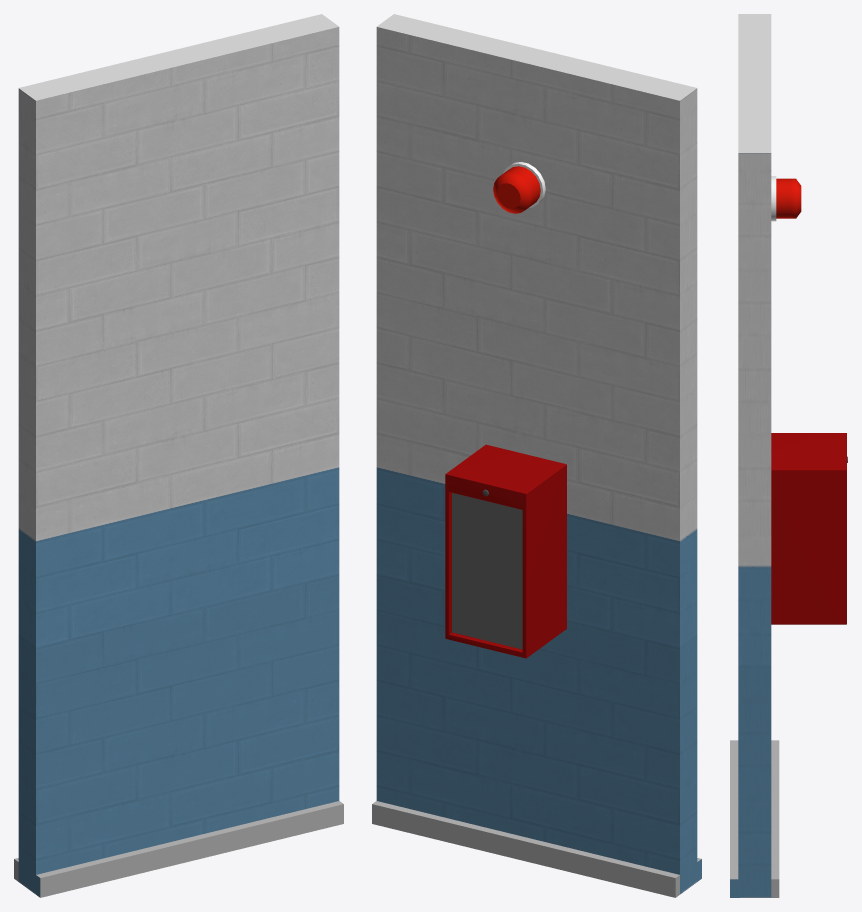
Rendered from Wall_Alarm.fbx.
3 renders of one model, left to right at view 1: azimuth 30°, elevation 25°; view 2: azimuth 150°, elevation 25°; view 3: azimuth 270°, elevation 25°, orthographic. The views are drawn at different scales.
Parts seen in each view (by area): view 1: Wall026; view 2: Wall026, Extinguisher, Cylinder218; view 3: Wall026, Extinguisher, Cylinder218, Cylinder217.
Boxes of the visible parts, bbox=[...] form: Wall026: bbox=[14, 14, 343, 897]; Wall026: bbox=[372, 14, 701, 897]; Extinguisher: bbox=[445, 444, 566, 658]; Cylinder218: bbox=[493, 166, 540, 213]; Wall026: bbox=[730, 14, 779, 897]; Extinguisher: bbox=[771, 433, 847, 624]; Cylinder218: bbox=[776, 178, 801, 218]; Cylinder217: bbox=[771, 176, 776, 221].
Bounding box in the file's own units: 1 × 2.5 × 0.3581.
Materials: 11 (2 with a texture image).
